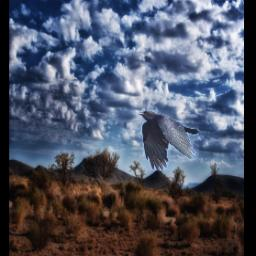Crow: (137, 111, 199, 172)
